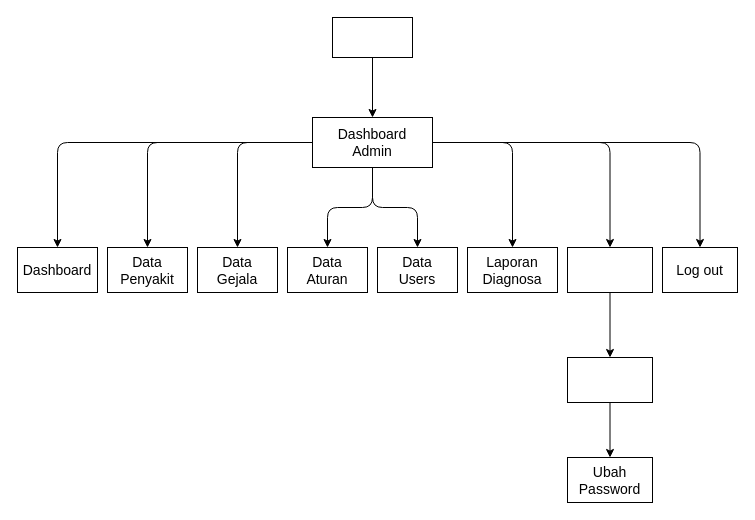
The diagram is 755 pixels wide and 520 high, and some of its shapes have lost their labels. The centre of each missing label's shape, as x and y in pixels:
"Login" belongs at pixel 372 37.
"Pengaturan" belongs at pixel 609 269.
"Profil" belongs at pixel 609 379.
